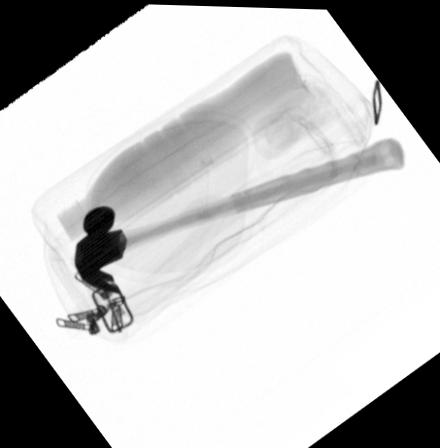Hammer: (73, 135, 404, 294)
